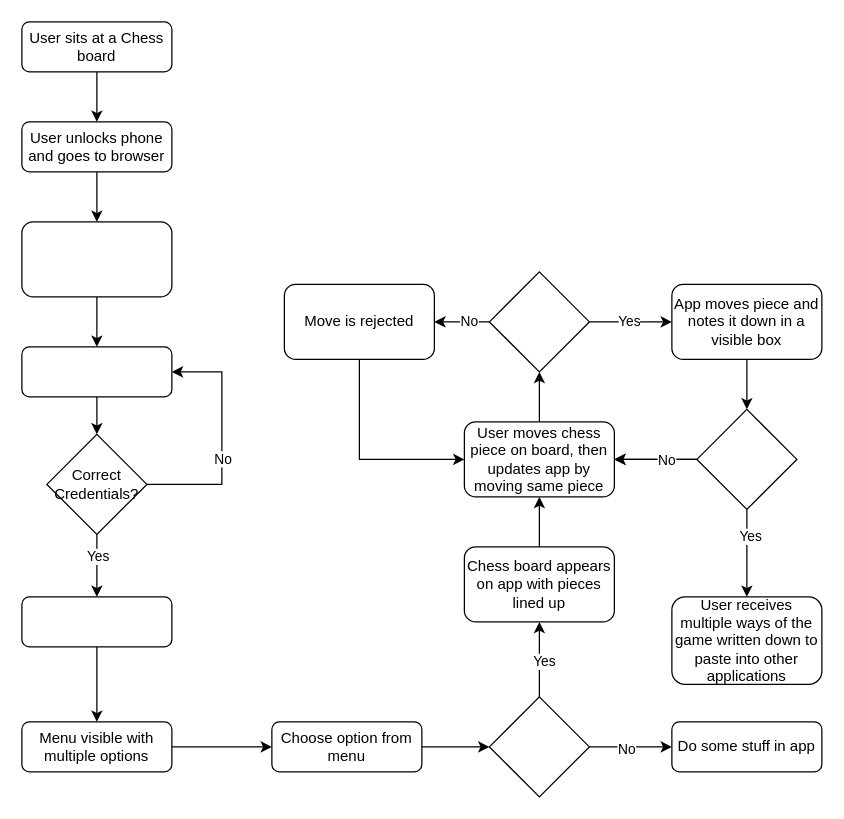
Some shapes in this 844 by 819 pixel diagram are drawn without their labels. Each missing label, with the centre of its shape:
is it check mate?: point (746, 458)
is move legal?: point (538, 321)
Is Option to track a game?: point (538, 746)
Profile page visible: point (96, 621)
User prompted to log in: point (96, 371)
User types into browser https://www.some-cool-name.com: point (96, 259)
